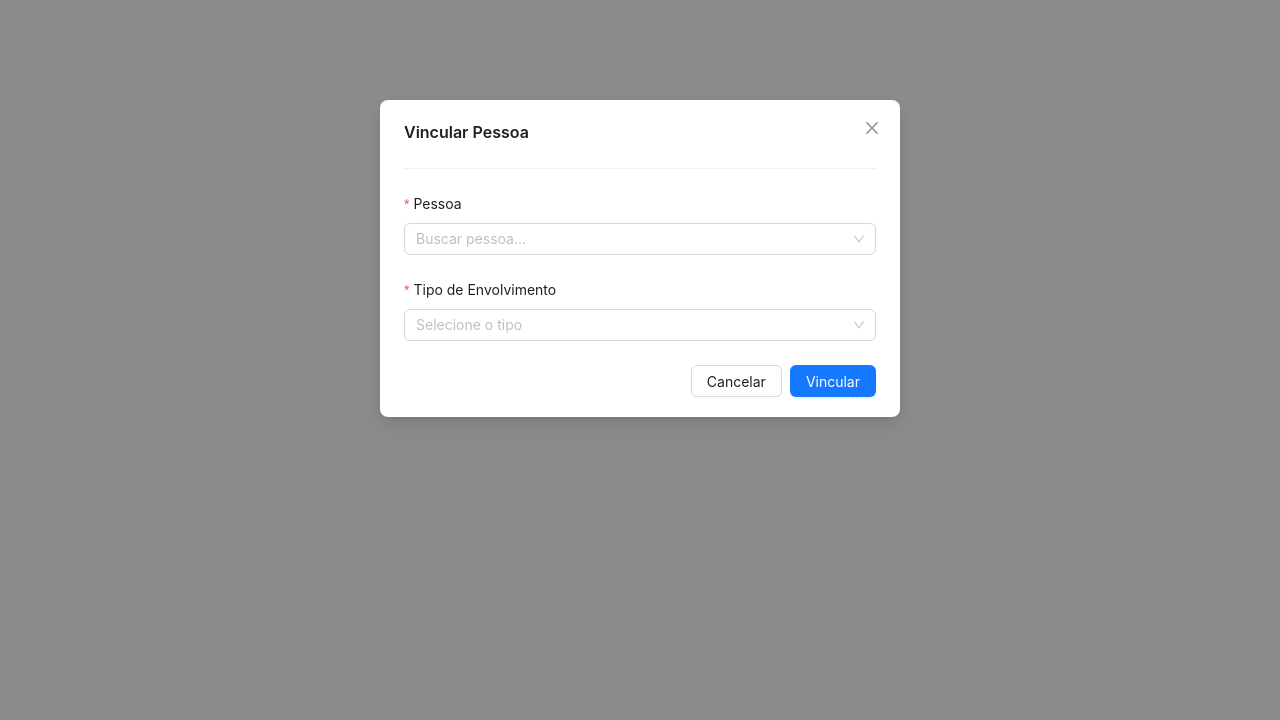
Test: LinkInvolvementModal › filtra pessoas por nome de forma insensível a acentos
# Abre o Select
Type "joao" into the dropdown labelled "Pessoa" at [631, 239], box x1=416 y1=224 x2=846 y2=254
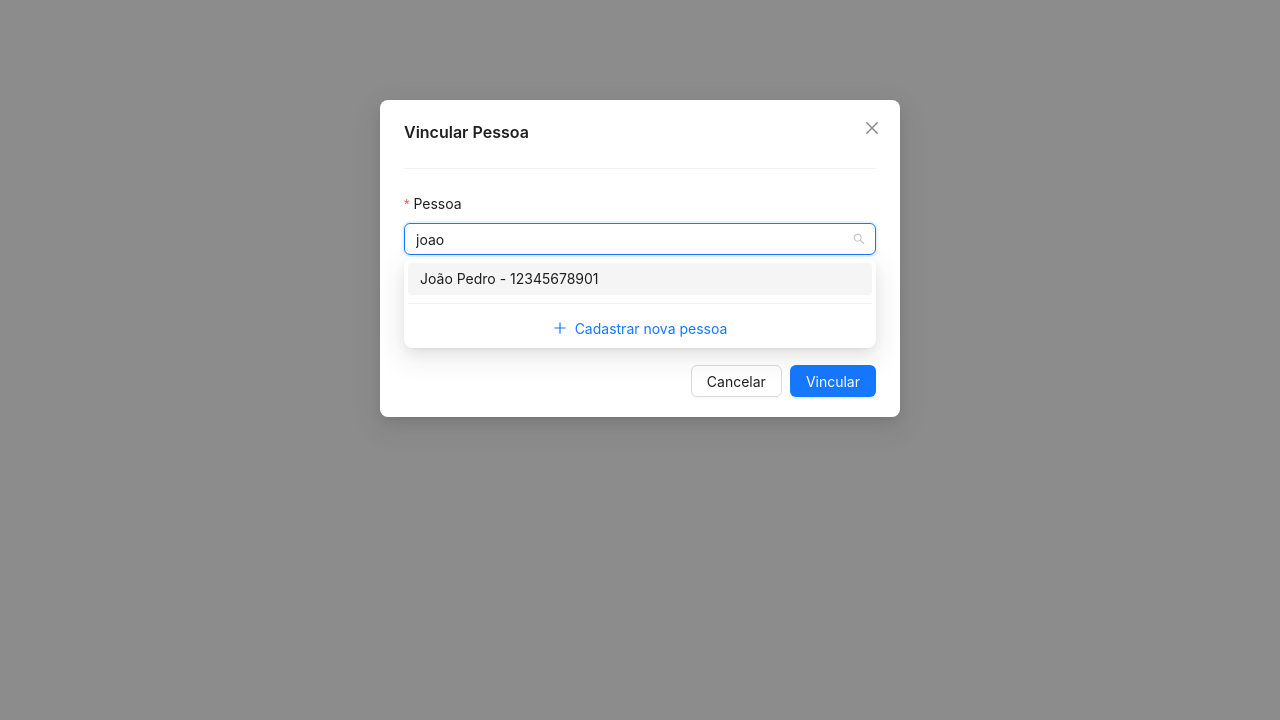
Expected: the text "João Pedro - 12345678901" is shown, x1=420 y1=270 x2=599 y2=287
Expected: the text "Ana Silva - 52998224725" is gone
